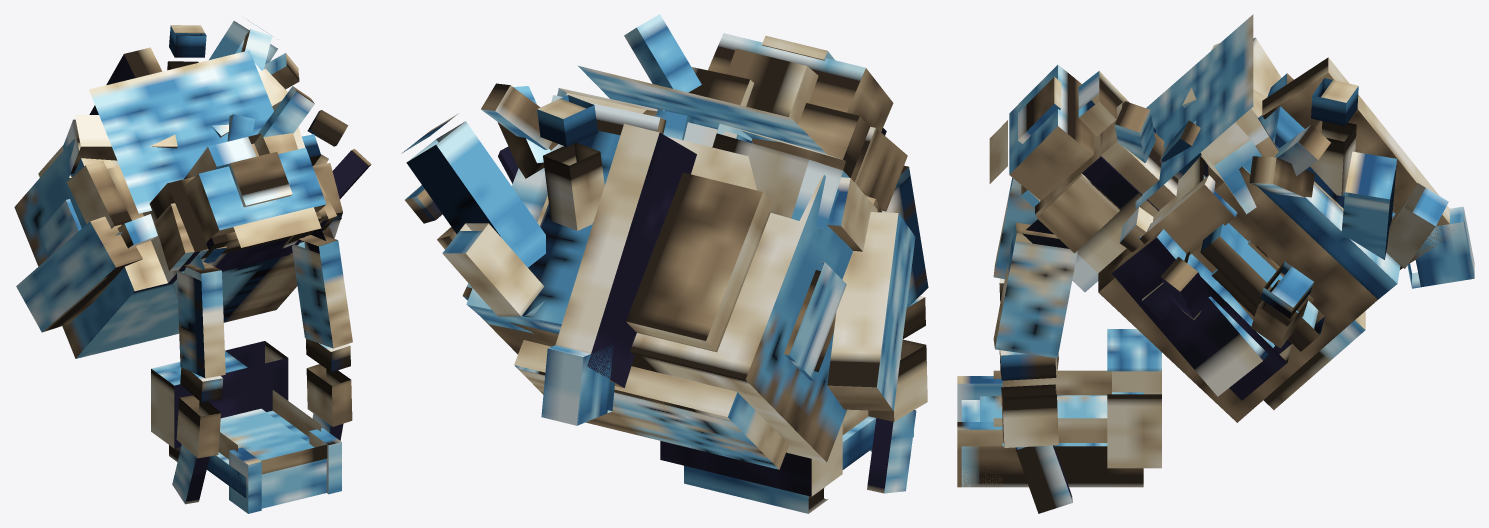
File: frost_mauler_skull.obj
3 views of the same model, side by side, from view 1: azimuth 30°, elevation 25°; view 2: azimuth 150°, elevation 25°; view 3: azimuth 270°, elevation 25° (orthographic). The views are drawn at different scales.
Parts seen in each view (by area): view 1: eye, skull, zygo_r, jaw_ramus, snout_tip, fang_l, fang_r, jaw, fang_l_mid, fang_r_mid, tongue, orbit_r (+28 smaller); view 2: skull, crest, crown, zygo_r, occiput, crystal0, ice_cap, crystal1, brow_r, eye, crystal3, snout_tip (+20 smaller); view 3: skull, zygo_l, eye, fang_l, jaw_ramus, ice_cheek, snout_tip, ice_cap, jaw, crest, fang_l_mid, crystal0 (+31 smaller).
Boxes of the visible parts, bbox=[...] form: eye: bbox=[89, 50, 273, 213]; skull: bbox=[14, 138, 333, 358]; zygo_r: bbox=[16, 216, 142, 332]; jaw_ramus: bbox=[151, 341, 288, 448]; snout_tip: bbox=[183, 147, 326, 242]; fang_l: bbox=[292, 235, 352, 348]; fang_r: bbox=[176, 262, 225, 378]; jaw: bbox=[169, 410, 326, 508]; fang_l_mid: bbox=[306, 338, 352, 426]; fang_r_mid: bbox=[176, 367, 223, 458]; tongue: bbox=[220, 408, 314, 460]; orbit_r: bbox=[66, 161, 131, 235]; skull: bbox=[481, 136, 852, 462]; crest: bbox=[555, 124, 696, 388]; crown: bbox=[537, 172, 772, 352]; zygo_r: bbox=[827, 212, 915, 411]; occiput: bbox=[514, 340, 788, 469]; crystal0: bbox=[401, 113, 545, 267]; ice_cap: bbox=[466, 130, 620, 333]; crystal1: bbox=[537, 95, 604, 230]; brow_r: bbox=[712, 123, 845, 229]; eye: bbox=[578, 66, 856, 184]; crystal3: bbox=[442, 223, 544, 316]; snout_tip: bbox=[708, 33, 893, 131]; skull: bbox=[1098, 89, 1377, 422]; zygo_l: bbox=[1111, 229, 1274, 396]; eye: bbox=[1135, 14, 1253, 208]; fang_l: bbox=[993, 222, 1077, 358]; jaw_ramus: bbox=[1107, 329, 1161, 468]; ice_cheek: bbox=[1141, 223, 1324, 400]; snout_tip: bbox=[1009, 65, 1093, 200]; ice_cap: bbox=[1258, 106, 1400, 299]; jaw: bbox=[961, 392, 1143, 487]; crest: bbox=[1262, 57, 1453, 269]; fang_l_mid: bbox=[999, 350, 1058, 447]; crystal0: bbox=[1341, 151, 1396, 259].
Bounding box in the file's own units: 25.56 × 25.16 × 28.44.
1 material, 1 textured.
